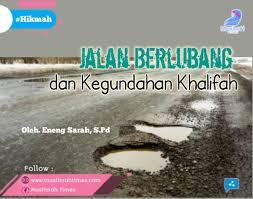Pothole: (85, 141, 172, 178), (131, 113, 200, 144)
